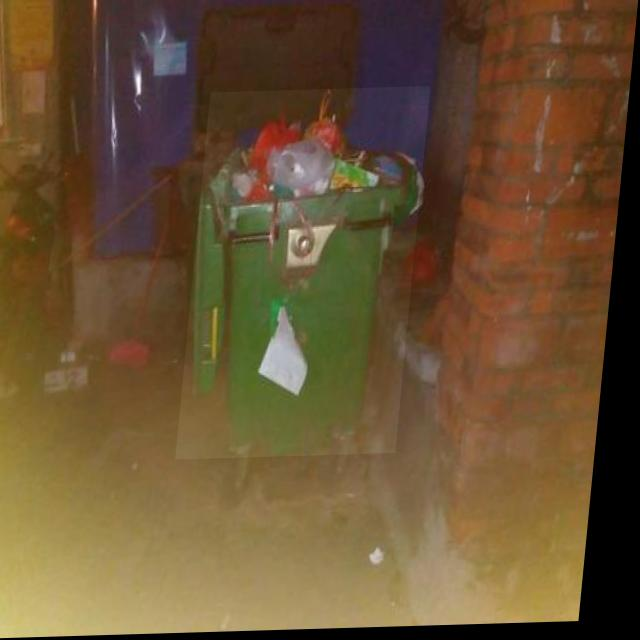overflow: (185, 89, 432, 461)
